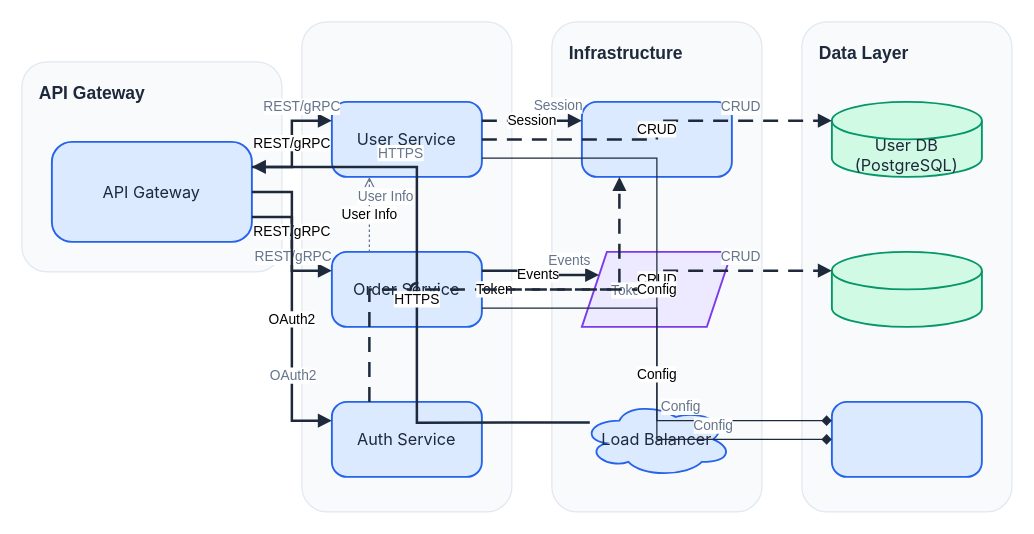
This 1034x534 diagram has some shape labels left out. The shapes that lost their labels are listed below. From the top down, each one's box as (x1, y1, x2, y2) in pixels, then its label:
(580, 100, 732, 177): Redis Cache
(301, 21, 512, 512): Services
(580, 250, 732, 327): Message Queue (RabbitMQ)
(830, 250, 982, 327): Order DB (PostgreSQL)
(830, 400, 982, 477): Config Server
